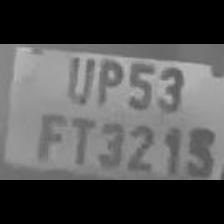1: (156, 118, 182, 176)
2: (122, 117, 156, 173)
3: (152, 60, 186, 114), (96, 112, 124, 170)
5: (180, 121, 214, 177), (124, 56, 154, 112)
F: (33, 111, 62, 167)
P: (92, 54, 122, 110)
T: (66, 111, 94, 167)
U: (61, 51, 92, 107)
